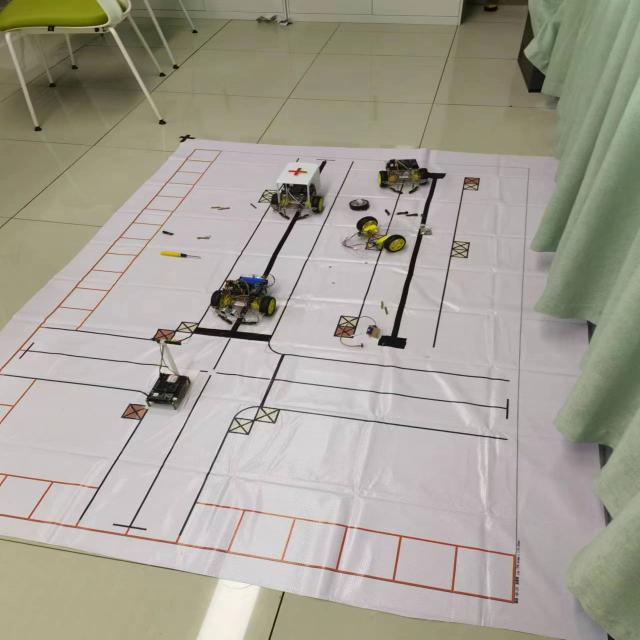RedCross: (286, 165, 310, 178)
